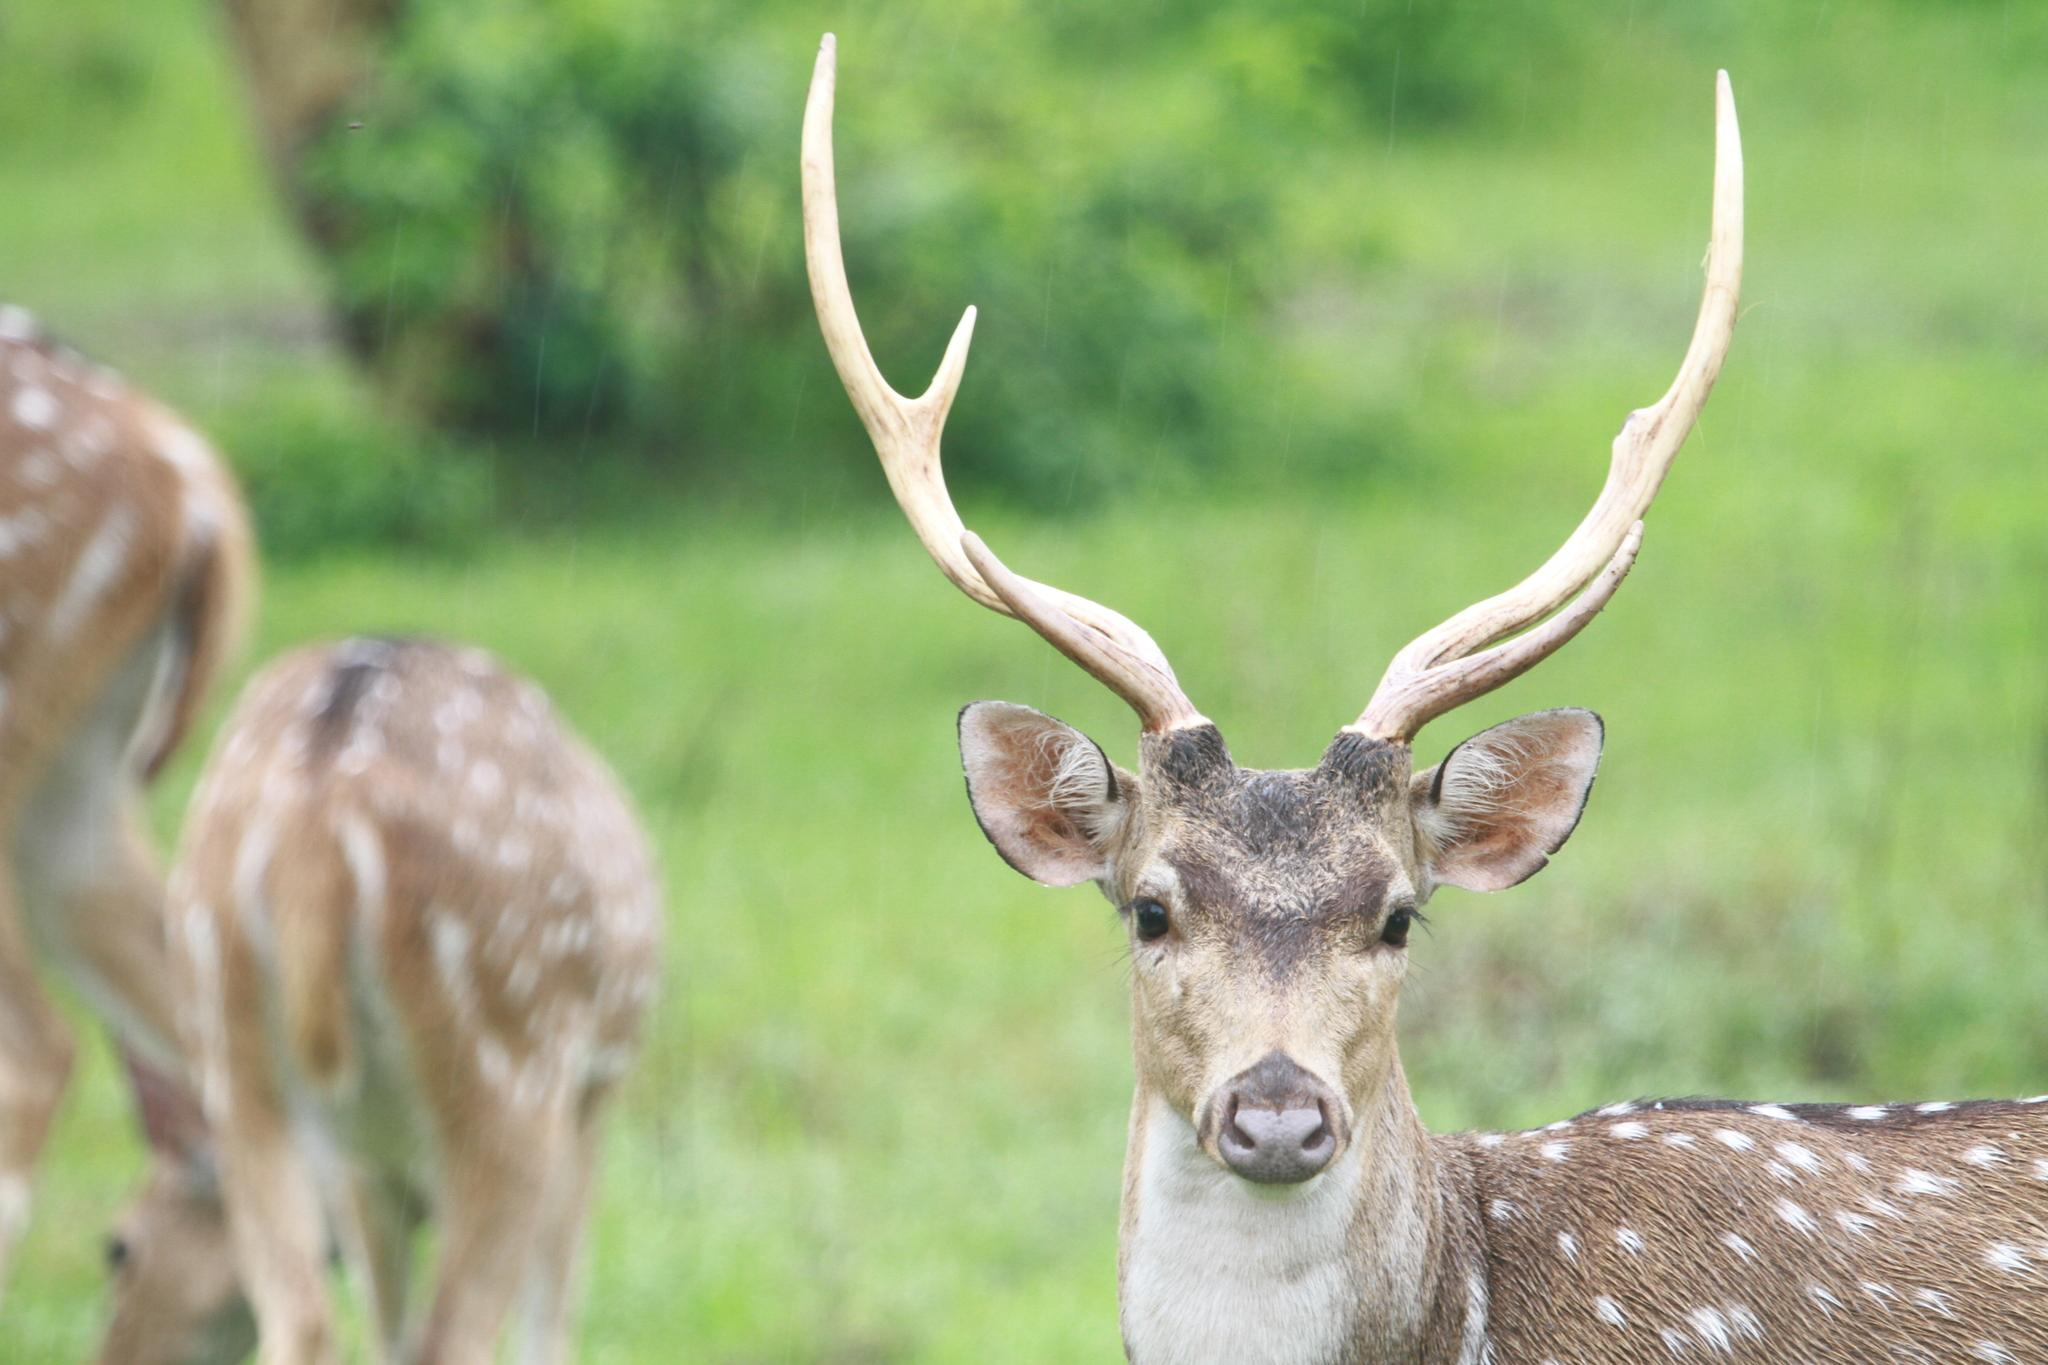Deer: (802, 43, 2046, 1363), (97, 635, 661, 1363)
